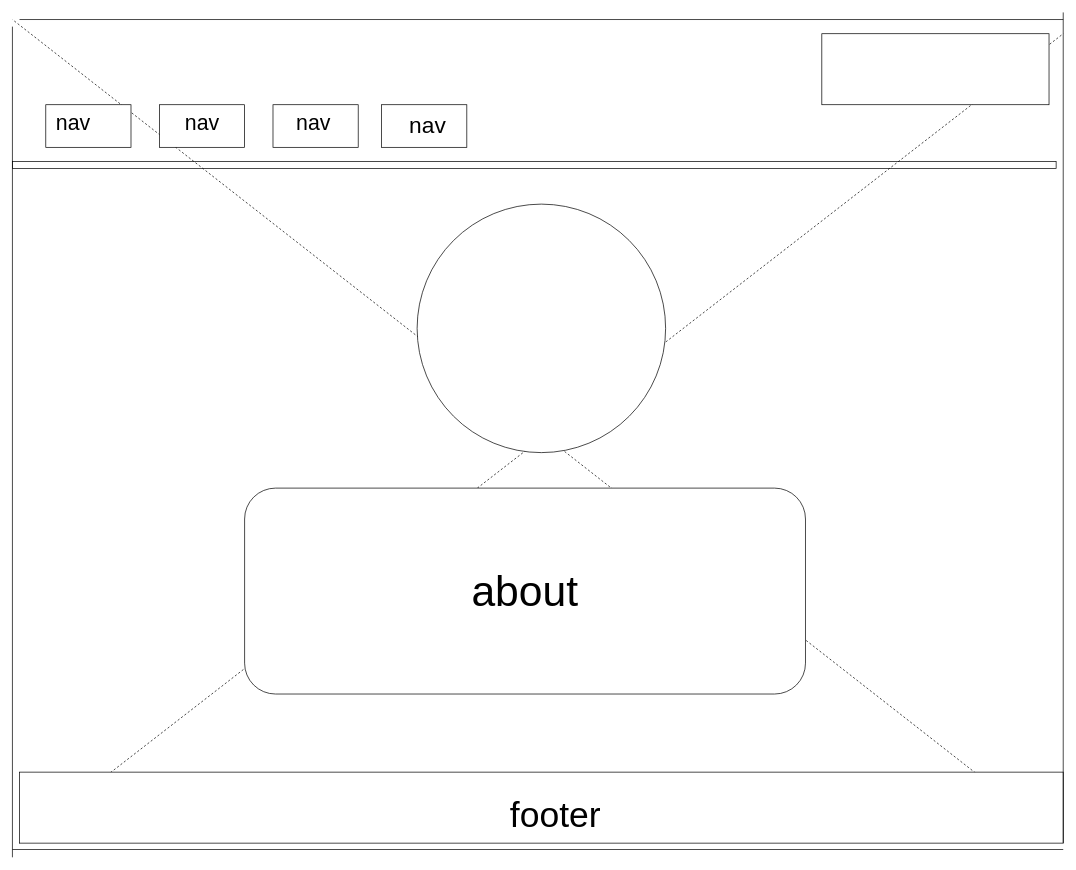
Image size: 1076x870. Some labels were removed from this diagram. Each missing label, with the centre of its shape:
"img" goes at [541,328].
"name" goes at [935,69].
